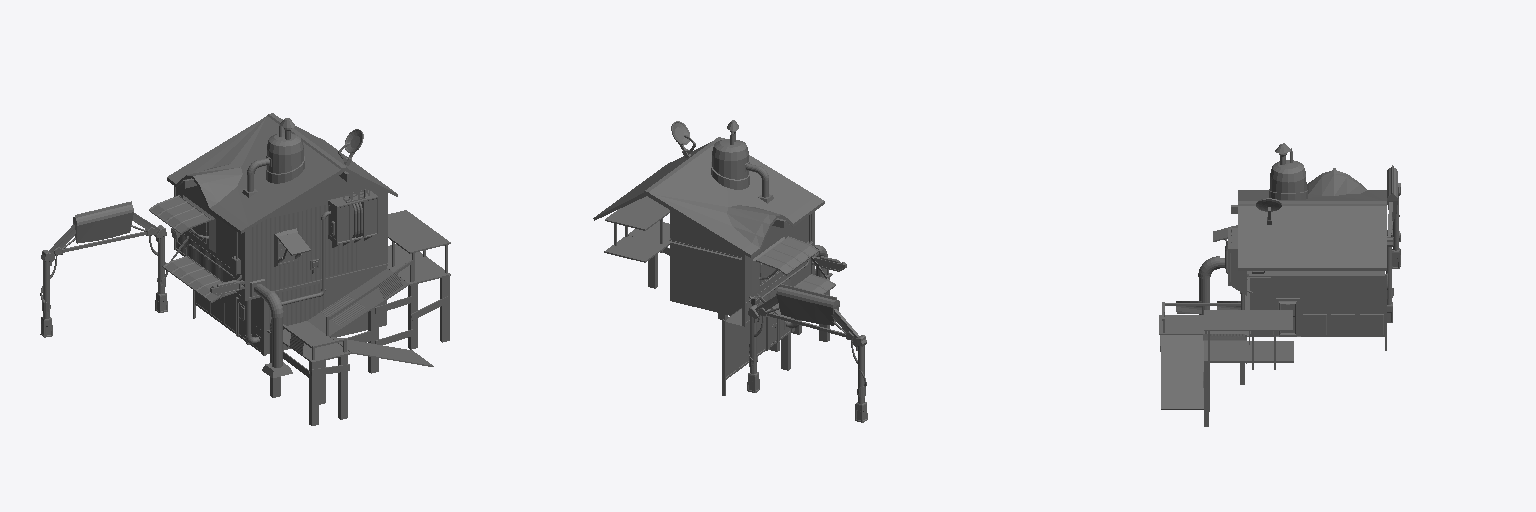
File: bandit_house.obj
3 renders of one model, left to right at view 1: azimuth 30°, elevation 25°; view 2: azimuth 150°, elevation 25°; view 3: azimuth 270°, elevation 25°, orthographic.
Visible parts, largest first — view 1: mesh; view 2: mesh; view 3: mesh.
Part boxes in pixels (x1,y1,x2,y2): mesh: (40,113,450,425); mesh: (593,120,867,422); mesh: (1159,143,1400,426).
Bounding box in the file's own units: 32.22 × 25.07 × 21.53.